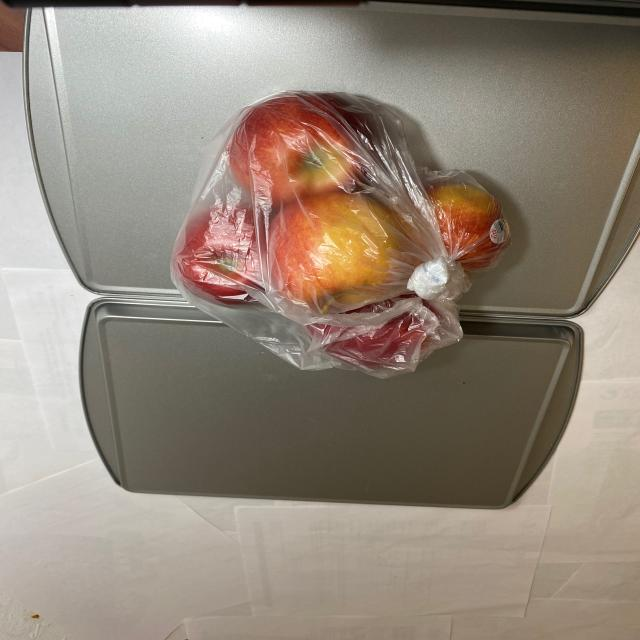apple: (166, 89, 514, 378)
